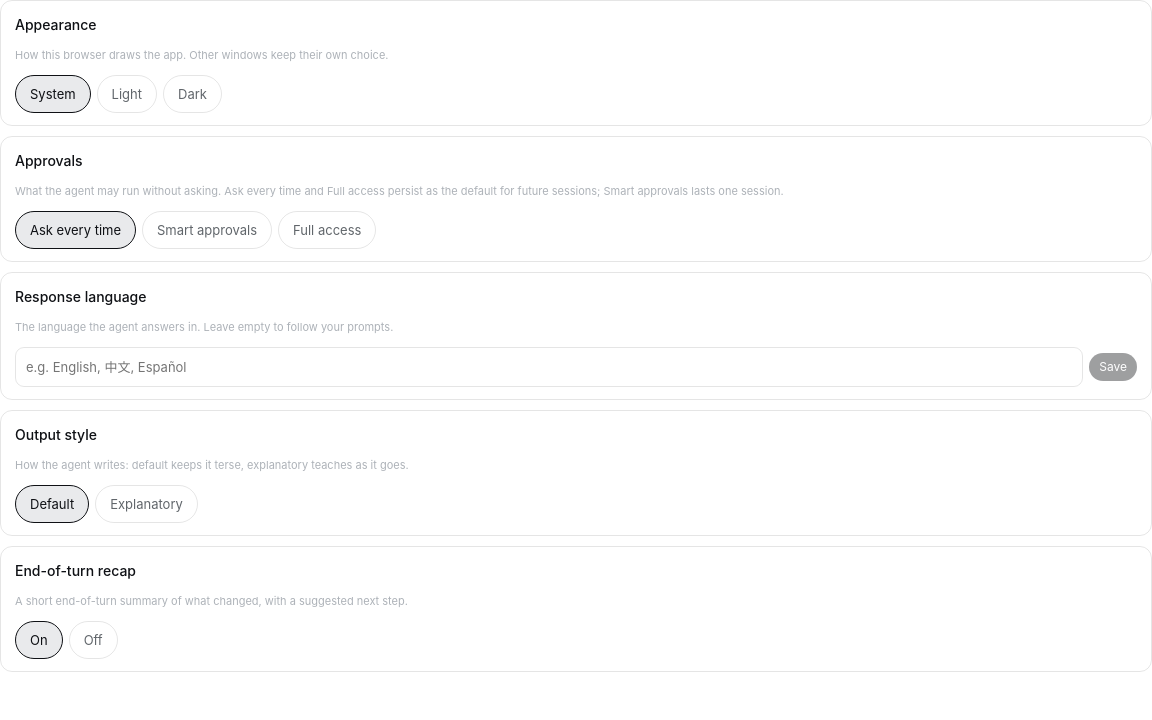
GeneralSection › cancelling the full-access confirmation leaves the mode alone
Click the button "Full access" at (327, 230), box [278, 211, 376, 249]
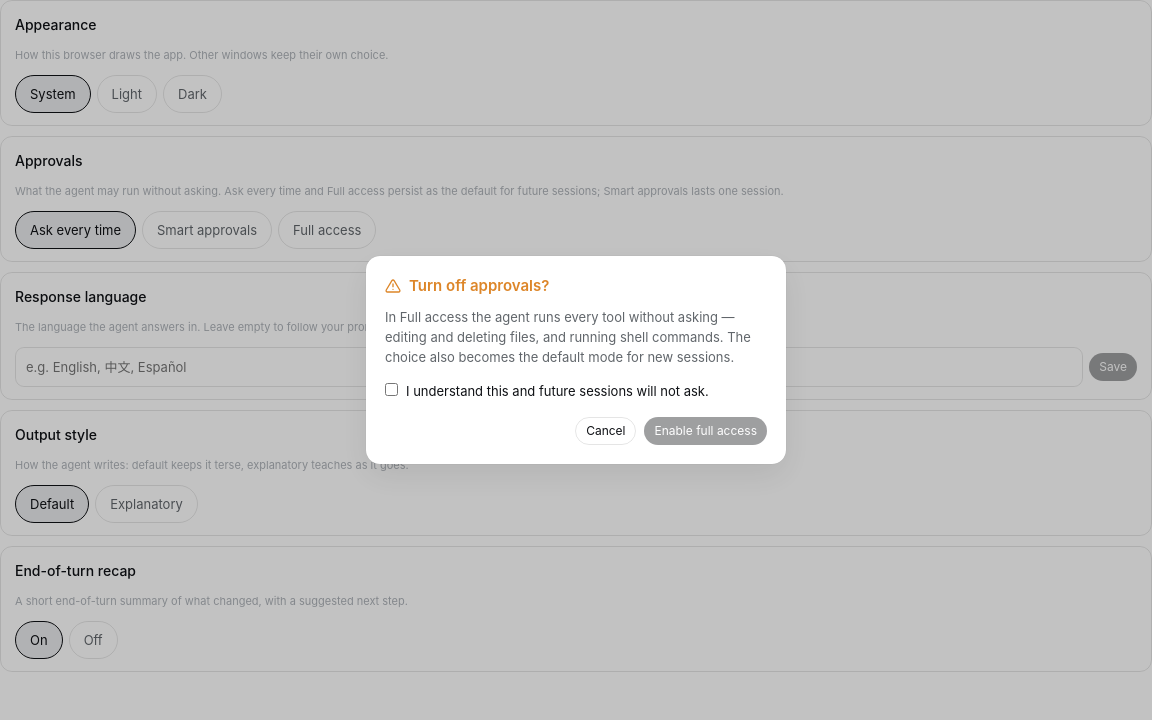
Click the button "Cancel" at (606, 431), box [575, 417, 636, 445]
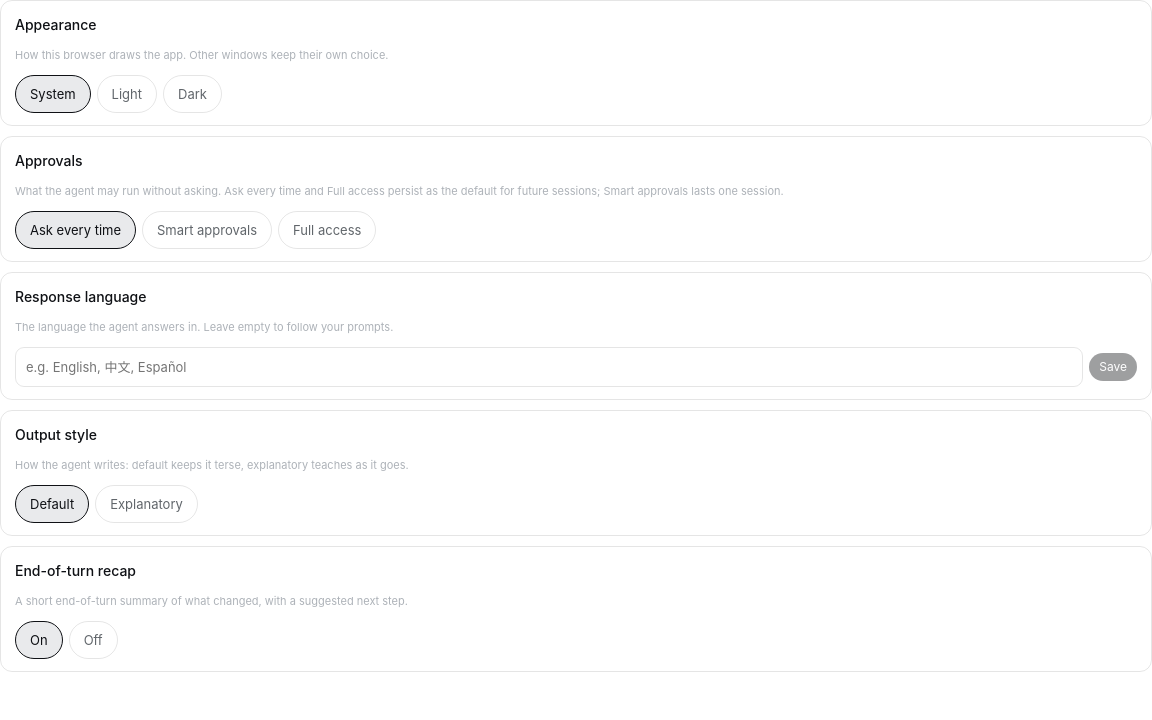
Check: the dialog is gone
